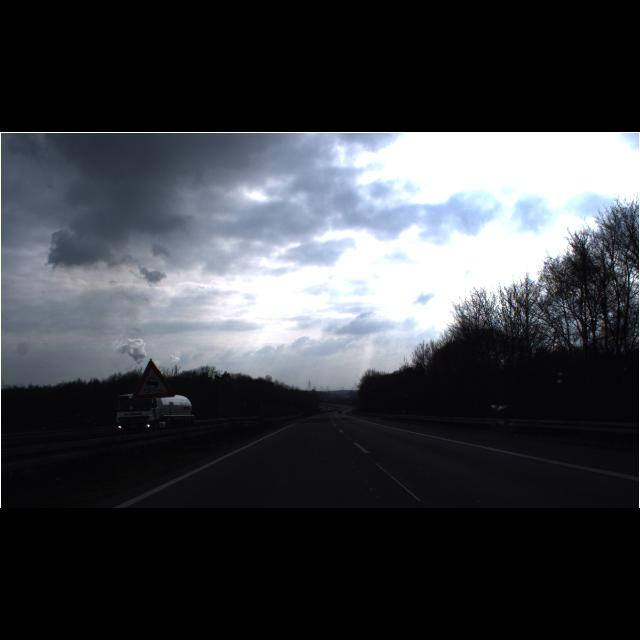danger: (131, 360, 175, 400)
